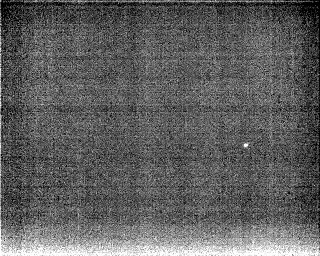AIRPLANE: (242, 140, 250, 150)
